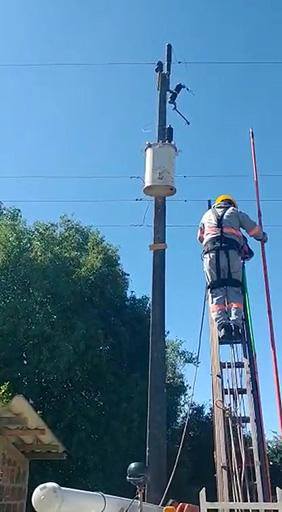Vara_Manobra: (249, 132, 282, 435)
